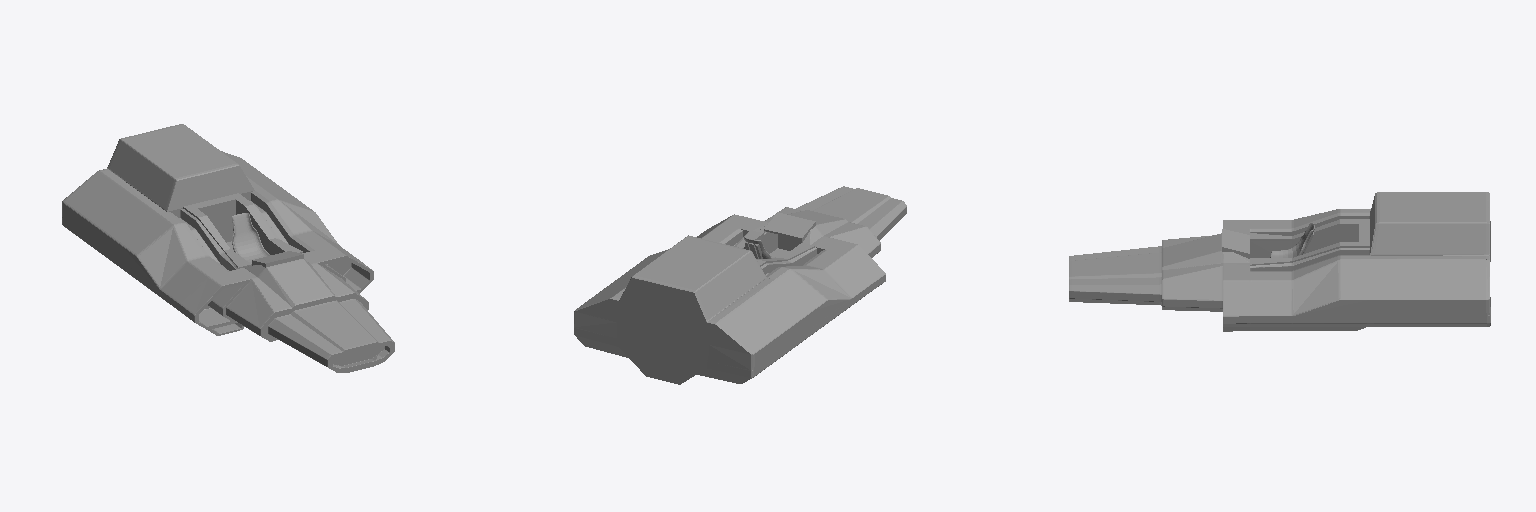
File: FighterShip_001.obj
The picture shows the model from 3 angles: view 1: azimuth 30°, elevation 25°; view 2: azimuth 150°, elevation 25°; view 3: azimuth 270°, elevation 25°; orthographic projection.
Parts seen in each view (by area): view 1: FighterChassis_Plane.003, CockpitMain_Plane.001, Seat_Plane.002; view 2: FighterChassis_Plane.003, CockpitMain_Plane.001; view 3: FighterChassis_Plane.003, CockpitMain_Plane.001.
Part boxes in pixels (x1,y1,x2,y2): FighterChassis_Plane.003: (62,124,394,372); CockpitMain_Plane.001: (183,193,303,268); Seat_Plane.002: (232,213,270,263); FighterChassis_Plane.003: (574,186,906,384); CockpitMain_Plane.001: (737,212,815,266); FighterChassis_Plane.003: (1069,192,1490,331); CockpitMain_Plane.001: (1222,219,1369,265).
Size of the model in its own units: 3 by 1.55 by 6.08.